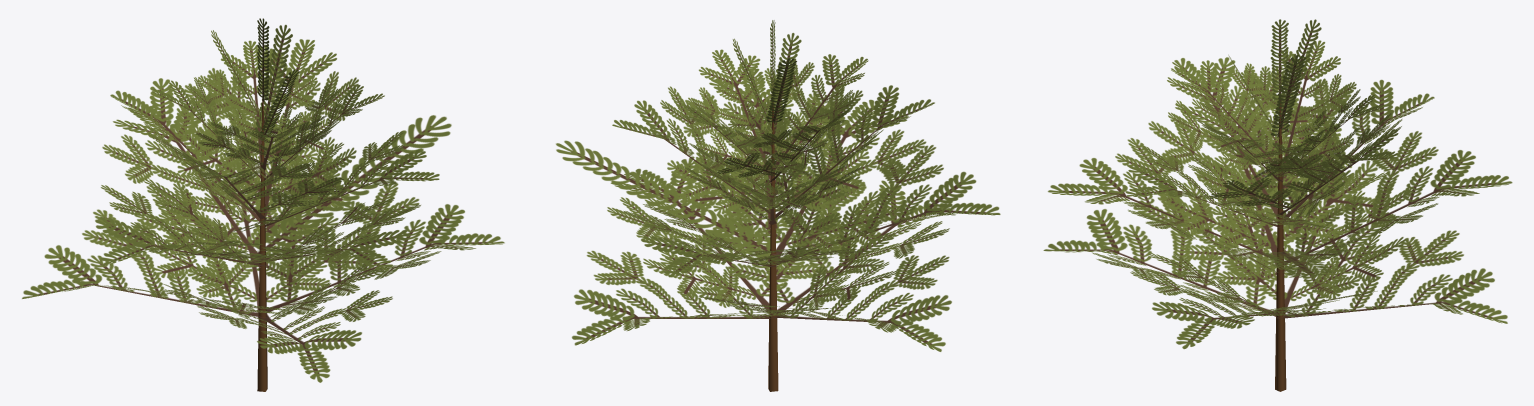
Rendered from Young_Fir_Tree_2.glb.
3 renders of one model, left to right at view 1: azimuth 30°, elevation 25°; view 2: azimuth 150°, elevation 25°; view 3: azimuth 270°, elevation 25°, orthographic.
Parts seen in each view (by area): view 1: Young_Fir_Tree_2; view 2: Young_Fir_Tree_2; view 3: Young_Fir_Tree_2.
Boxes of the visible parts, x1=… form: Young_Fir_Tree_2: x1=22, y1=18, x2=504, y2=391; Young_Fir_Tree_2: x1=556, y1=20, x2=1000, y2=391; Young_Fir_Tree_2: x1=1043, y1=19, x2=1512, y2=391.
Bounding box in the file's own units: 1.17 × 0.9993 × 1.18.
2 materials, 2 textured.
